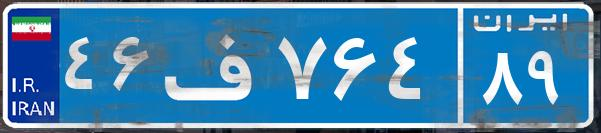4: (385, 28, 445, 110), (57, 26, 110, 107)
6: (330, 28, 385, 110), (110, 28, 158, 105)
7: (273, 28, 330, 110)
8: (475, 38, 525, 113)
9: (525, 38, 570, 115)
ف: (158, 15, 273, 115)
